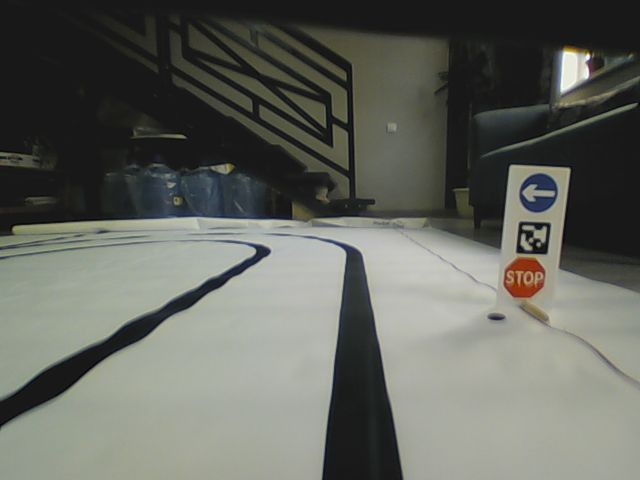Stop: (501, 257, 546, 299)
